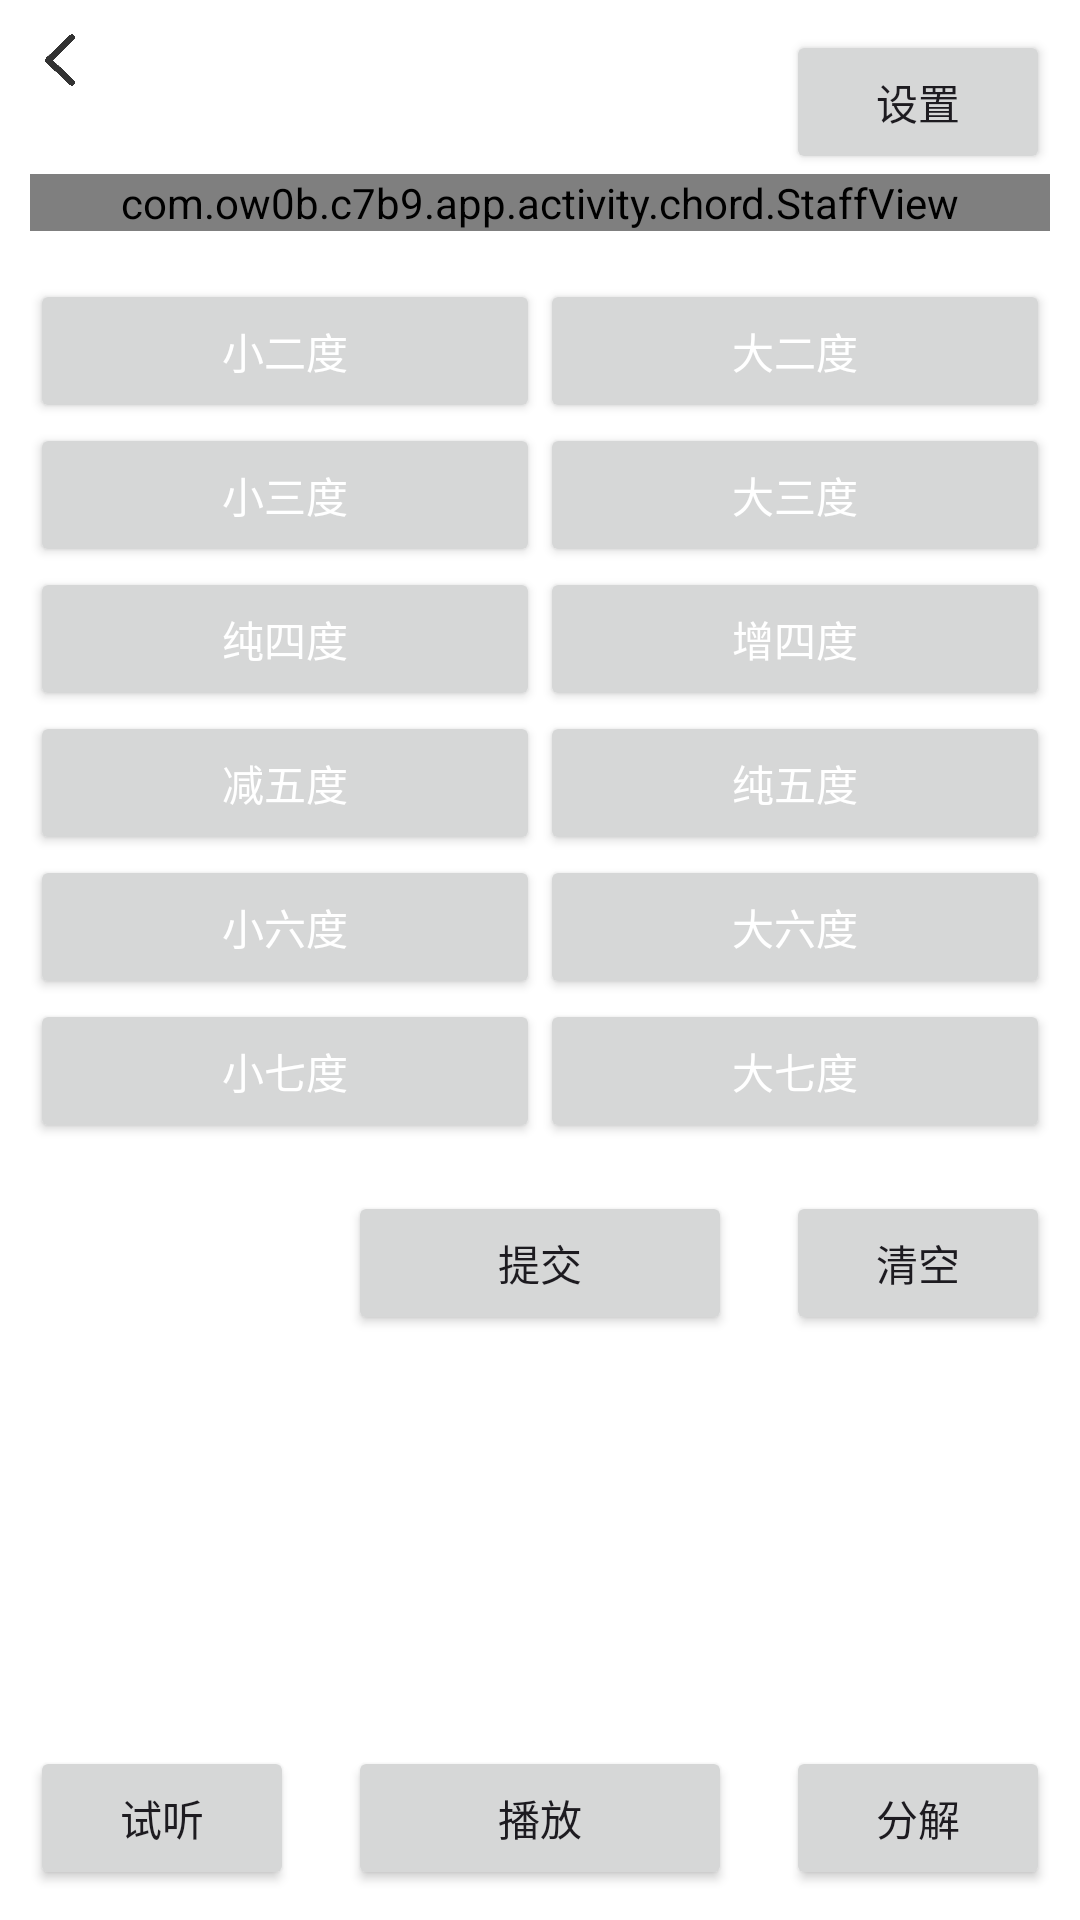

Icons on this 1080 × 1920 Android screen, each with its box as (x1, y1, x2, y2):
back: (45, 34, 75, 86)
